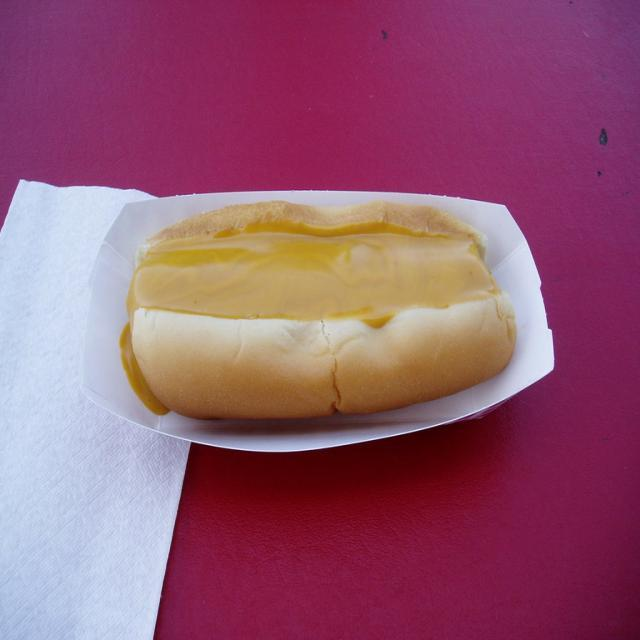Sandwich: (116, 199, 520, 418)
